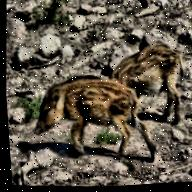boar: (19, 61, 159, 171), (99, 25, 191, 124)
